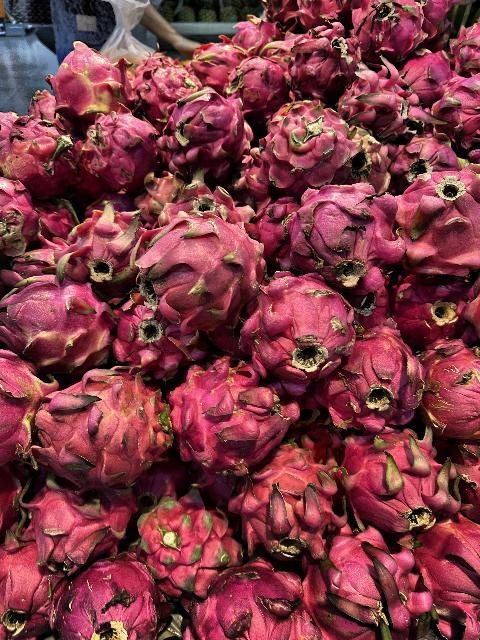buah-naga-belum-matang: (39, 374, 183, 496), (0, 271, 118, 374), (1, 347, 61, 463), (42, 41, 130, 120)
buah-naga-matang: (304, 522, 436, 640), (164, 365, 300, 465), (145, 214, 265, 320), (244, 274, 354, 388), (338, 431, 463, 531), (44, 538, 162, 640), (286, 182, 400, 286), (123, 489, 241, 589), (234, 449, 344, 551), (188, 554, 316, 640), (18, 470, 134, 562), (394, 163, 480, 279), (332, 325, 420, 431), (259, 99, 351, 190), (0, 528, 72, 640), (160, 94, 256, 178), (336, 70, 446, 138), (111, 298, 199, 382), (1, 106, 74, 198), (52, 218, 142, 292), (418, 344, 480, 438), (78, 116, 160, 186), (348, 0, 426, 60), (379, 131, 471, 175), (288, 35, 360, 89), (228, 65, 290, 121), (401, 42, 451, 106), (187, 42, 247, 88), (136, 66, 194, 112), (446, 80, 480, 136)
